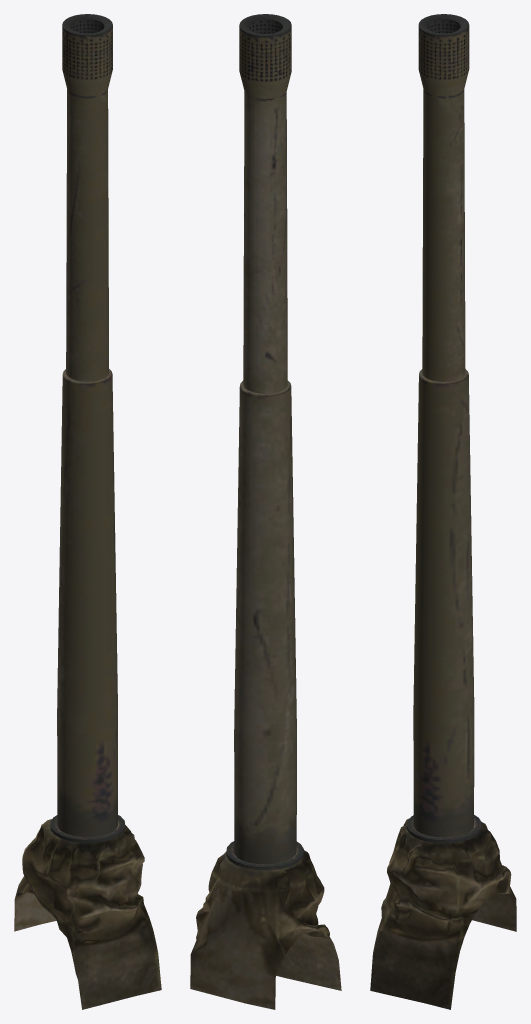
Rendered from Gun_06.glb.
3 renders of one model, left to right at view 1: azimuth 30°, elevation 25°; view 2: azimuth 150°, elevation 25°; view 3: azimuth 330°, elevation 25°, orthographic. The views are drawn at different scales.
Parts seen in each view (by area): view 1: set_0_group_0; view 2: set_0_group_0; view 3: set_0_group_0.
Part boxes in pixels (x1,y1,x2,y2): set_0_group_0: [14, 14, 161, 1009]; set_0_group_0: [190, 14, 341, 1009]; set_0_group_0: [370, 14, 516, 1009].
Size of the model in its own units: 0.3992 by 3.77 by 0.4895.
Materials: 1 (1 with a texture image).
